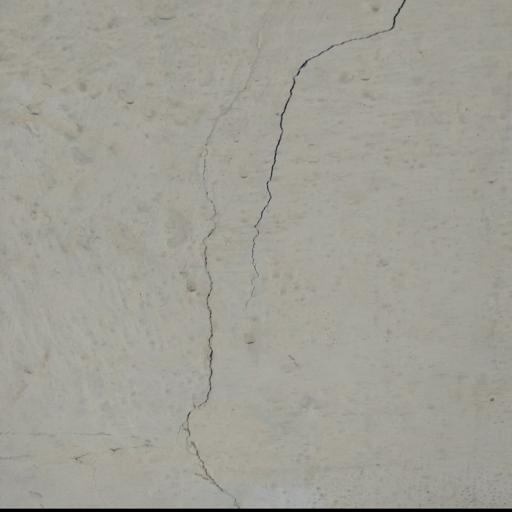minor_crack: (237, 0, 427, 316), (165, 42, 241, 512)
